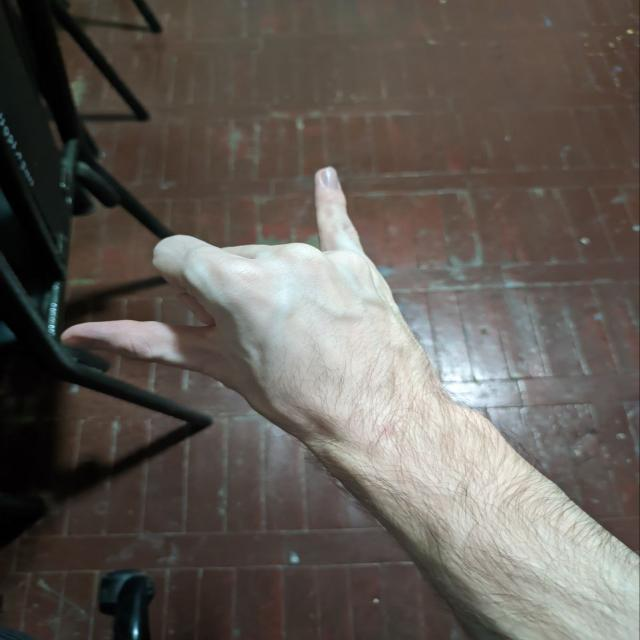u: (69, 142, 457, 402)
